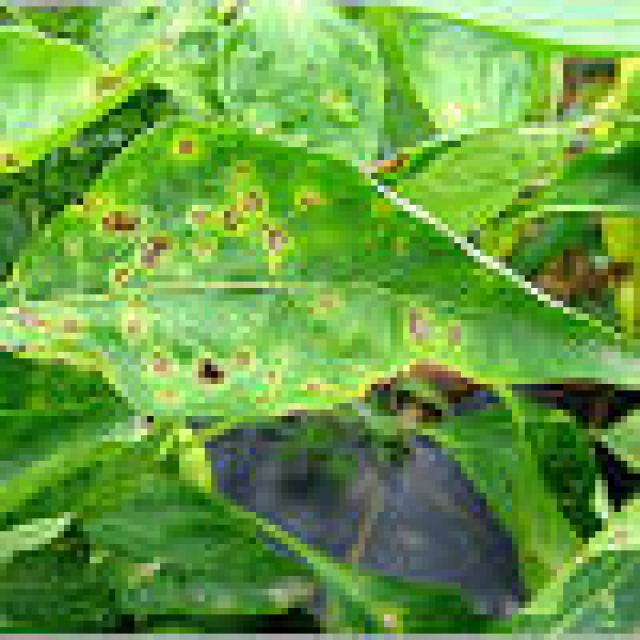bercak_daun: (0, 115, 640, 429)
